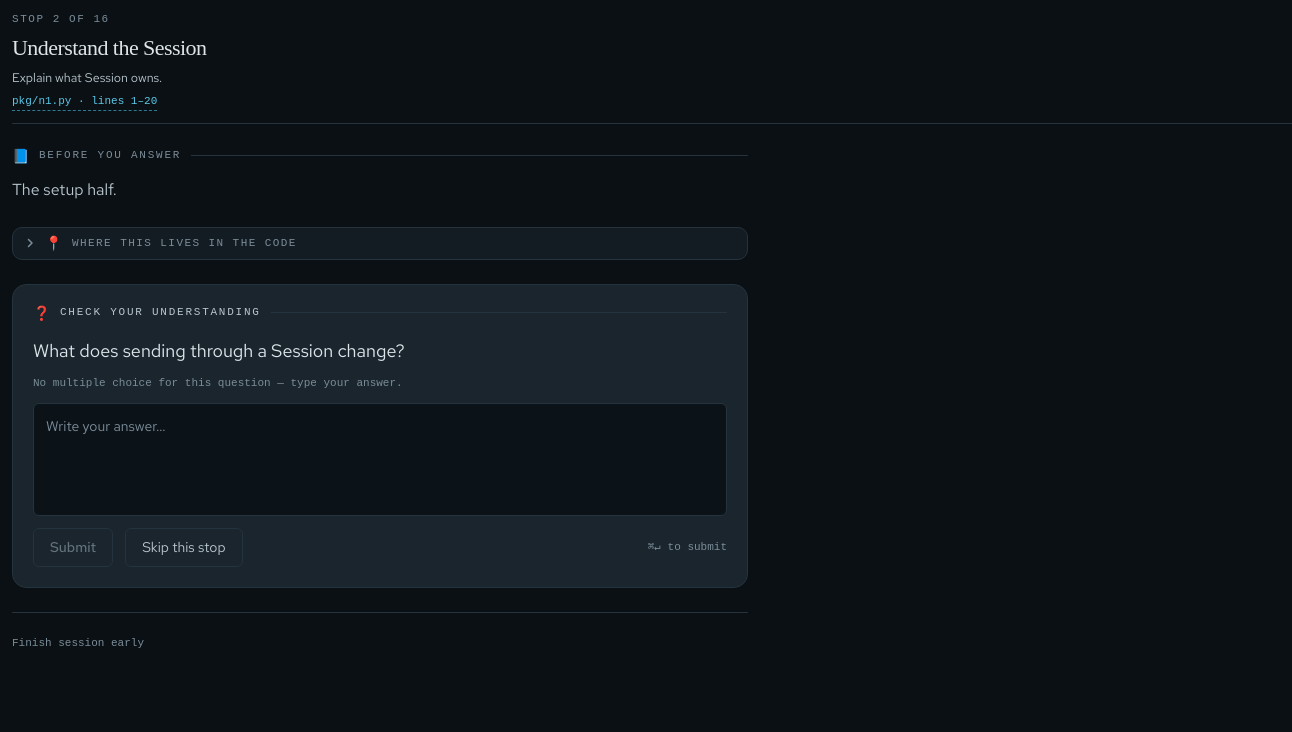
Test: Ask me again › the learner is never shown which mechanism it was
Expected: the text "What does sending through a Session change?" is shown, [33, 339, 405, 362]
In the text box with placeholder "Write your answer…": {"x": 380, "y": 459} [33, 403, 727, 516], type "A wrong answer."
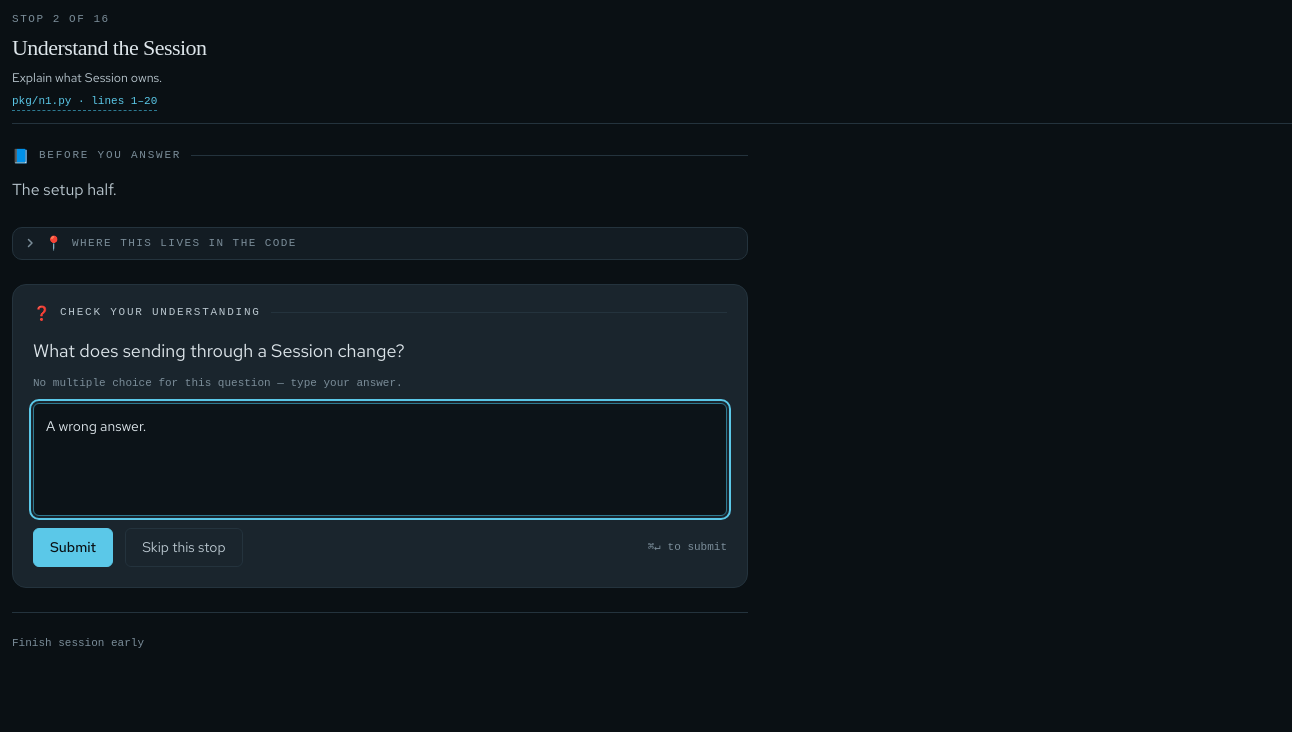
Click the button "Submit": {"x": 73, "y": 548} [33, 528, 113, 567]
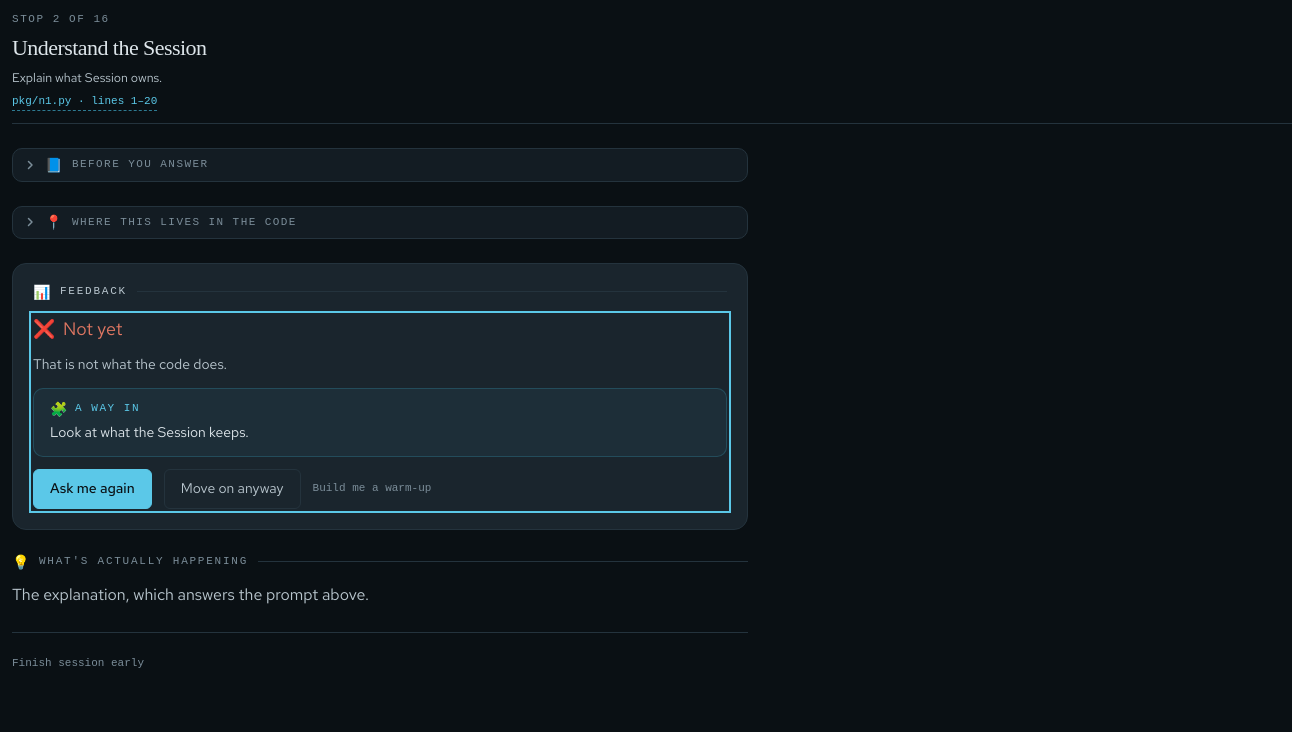
Now the text "That is not what the code does." is shown, box [33, 355, 227, 373]
